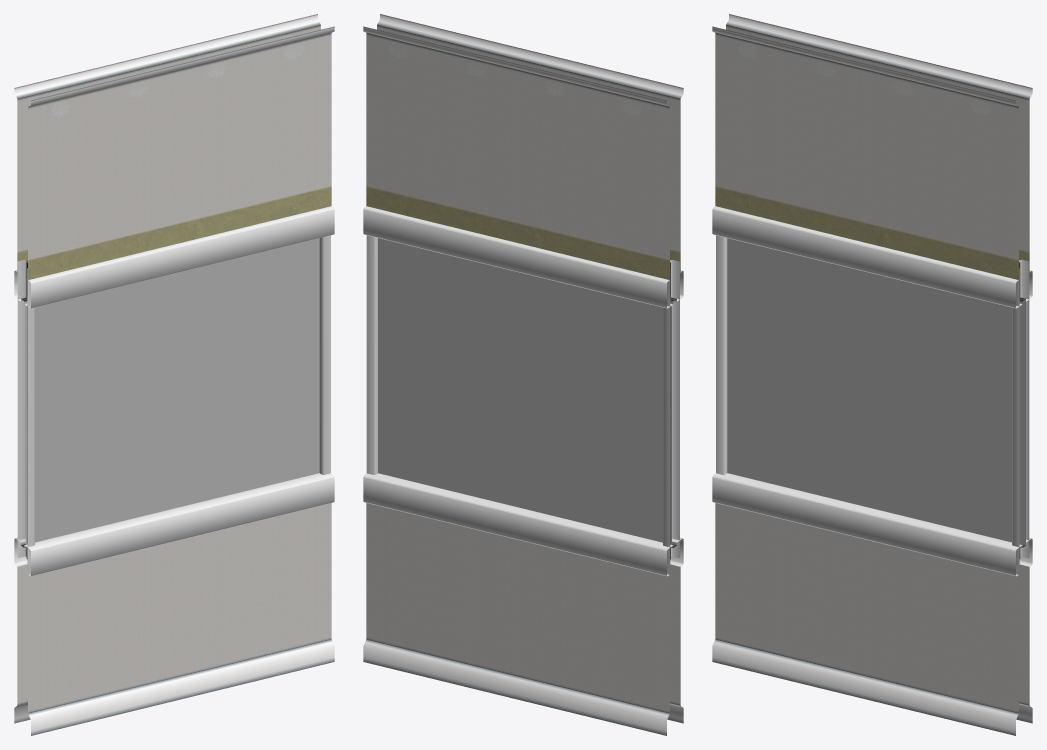
File: waitingroom_reception_flat_short.dae
The picture shows the model from 3 angles, left to right: view 1: azimuth 30°, elevation 25°; view 2: azimuth 150°, elevation 25°; view 3: azimuth 330°, elevation 25°; orthographic projection.
Parts seen in each view (by area): view 1: polySurface172, polySurface182; view 2: polySurface172, polySurface182; view 3: polySurface172, polySurface182.
Boxes of the visible parts, <box> form: polySurface172: <box>14,14,334,735</box>; polySurface182: <box>25,238,319,544</box>; polySurface172: <box>363,14,683,735</box>; polySurface182: <box>378,238,671,544</box>; polySurface172: <box>712,14,1032,735</box>; polySurface182: <box>727,238,1025,547</box>.
Bounding box in the file's own units: 2 × 4 × 0.1933.
